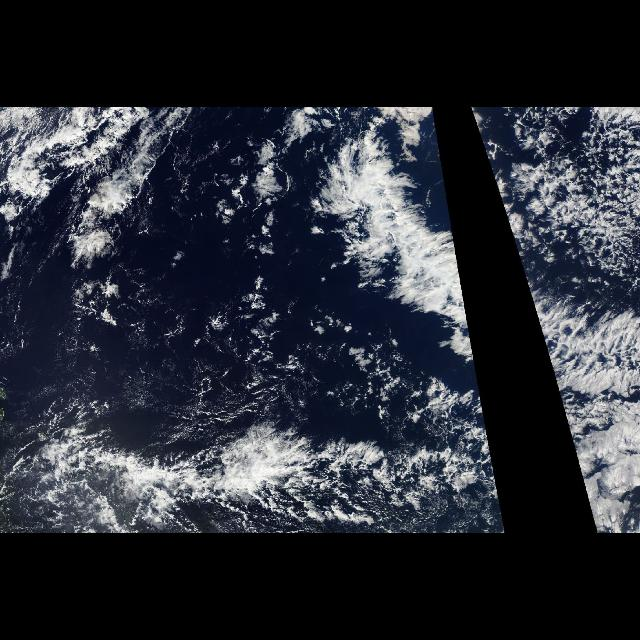Fish: (6, 109, 504, 531), (470, 109, 640, 531)
Gravel: (118, 291, 434, 527), (494, 111, 640, 283)
